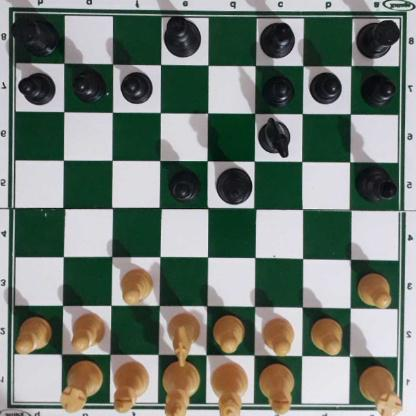black-bishop: (355, 165, 400, 202), (258, 22, 299, 58)
black-king: (163, 14, 204, 55), (217, 166, 254, 204)
black-knight: (260, 116, 293, 155)
black-pawn: (20, 69, 56, 105), (168, 166, 203, 201), (121, 68, 154, 103), (362, 73, 396, 105), (73, 68, 105, 102), (264, 70, 295, 105), (312, 70, 343, 104)
black-rook: (356, 15, 404, 58), (15, 10, 58, 55)
white-bishop: (258, 363, 296, 416), (114, 361, 151, 411)
white-king: (163, 358, 202, 414)
white-knight: (165, 310, 201, 366)
white-pawn: (69, 310, 107, 350), (16, 315, 53, 352), (358, 271, 394, 307), (311, 316, 345, 354), (121, 266, 155, 304), (264, 315, 297, 354), (214, 313, 247, 351)
white-queen: (211, 361, 250, 416)
white-rook: (361, 360, 401, 415), (63, 363, 104, 409)
